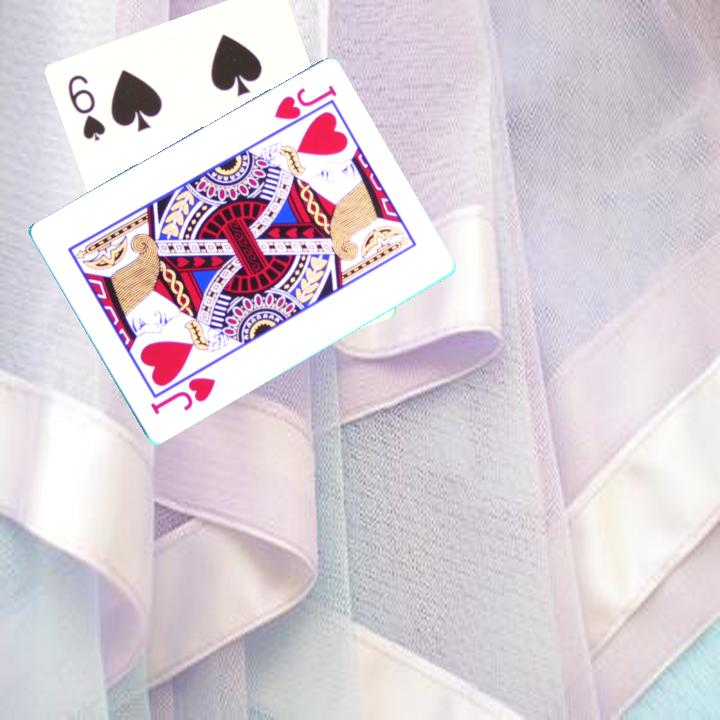6s: (63, 70, 108, 144)
Jh: (147, 374, 219, 418), (270, 82, 340, 124)
